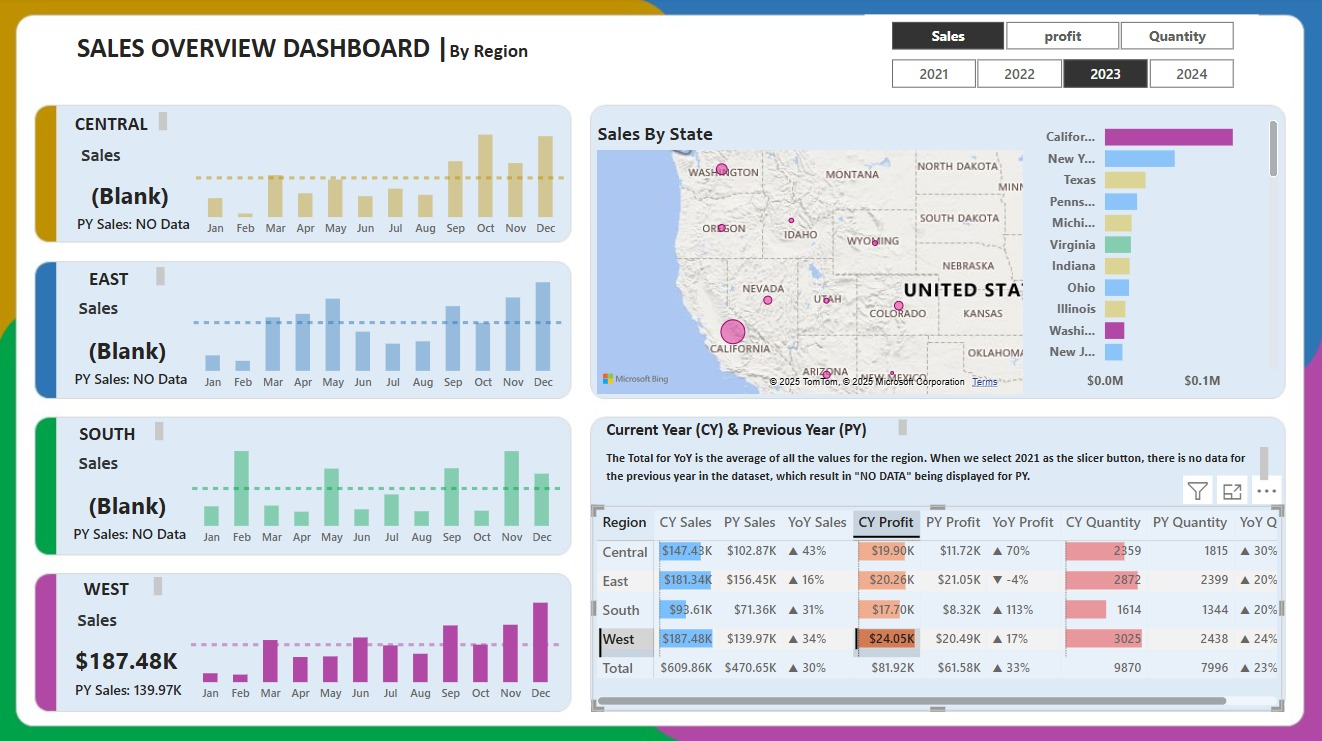

The page's visual inventory and layout, read from the dashboard file:
{"tool":"powerbi","page":{"name":"Page 1","canvas":[1280,720],"ordinal":0},"visuals":[{"type":"slicer","fields":{"Values":["Select Metric.Select Metric"]},"box":[838.4,16.5,380.1,37],"z":0},{"type":"card","fields":{"Values":["Sales Data.Total Sales"]},"box":[71.4,170.2,116.6,45.3],"z":1000},{"type":"textbox","box":[60.3,106.2,109.8,30.2],"z":2000},{"type":"slicer","fields":{"Values":["Calendar Table.Year"]},"box":[838.4,53.5,380.1,41.2],"z":3000},{"type":"card","fields":{"Values":["Sales Data.Dynamic Title"]},"box":[71.4,135.8,60.4,34.3],"z":4000},{"type":"card","fields":{"Values":["Sales Data.PY KPI Sales"]},"box":[67.2,203.1,130.4,37],"z":5000},{"type":"clusteredColumnChart","fields":{"Y":["Sales Data.Total Sales"],"Category":["Calendar Table.Month"]},"box":[188,105.7,366.4,134.5],"z":6000},{"type":"textbox","box":[37,27.4,517.3,50.8],"z":7000},{"type":"card","fields":{"Values":["Sales Data.Total Sales"]},"box":[69.3,319.6,116.6,45.3],"z":8000},{"type":"textbox","box":[58.2,255.6,109.8,30.2],"z":9000},{"type":"card","fields":{"Values":["Sales Data.Dynamic Title"]},"box":[69.3,285.3,60.4,34.3],"z":10000},{"type":"card","fields":{"Values":["Sales Data.PY KPI Sales"]},"box":[65.2,352.5,130.4,37],"z":11000},{"type":"clusteredColumnChart","fields":{"Y":["Sales Data.Total Sales"],"Category":["Calendar Table.Month"]},"box":[185.9,255.1,366.4,134.5],"z":12000},{"type":"card","fields":{"Values":["Sales Data.Total Sales"]},"box":[68.2,468.9,116.6,45.3],"z":13000},{"type":"textbox","box":[57.1,404.9,109.8,30.2],"z":14000},{"type":"card","fields":{"Values":["Sales Data.Dynamic Title"]},"box":[68.2,434.6,60.4,34.3],"z":15000},{"type":"card","fields":{"Values":["Sales Data.PY KPI Sales"]},"box":[64.1,501.8,130.4,37],"z":16000},{"type":"clusteredColumnChart","fields":{"Y":["Sales Data.Total Sales"],"Category":["Calendar Table.Month"]},"box":[184.8,404.4,366.4,134.5],"z":17000},{"type":"card","fields":{"Values":["Sales Data.Total Sales"]},"box":[67.1,619.3,116.6,45.3],"z":18000},{"type":"textbox","box":[56.1,555.3,109.8,30.2],"z":19000},{"type":"card","fields":{"Values":["Sales Data.Dynamic Title"]},"box":[67.1,585,60.4,34.3],"z":20000},{"type":"card","fields":{"Values":["Sales Data.PY KPI Sales"]},"box":[63,652.2,130.4,37],"z":21000},{"type":"clusteredColumnChart","fields":{"Y":["Sales Data.Total Sales"],"Category":["Calendar Table.Month"]},"box":[183.7,554.8,366.4,134.5],"z":22000},{"type":"map","title":"Sales By State","fields":{"Size":["Sales Data.Total Sales"],"Category":["Sales Data.State/Province"],"Series":["Sales Data.Region"]},"box":[575,120.8,421.3,267.6],"z":23000},{"type":"barChart","fields":{"Y":["Sales Data.Total Sales"],"Category":["Sales Data.State/Province"],"Series":["Sales Data.Region"]},"box":[996.2,105.7,245.6,282.7],"z":24000},{"type":"pivotTable","fields":{"Rows":["Sales Data.Region"],"Values":["Sales Data.CY Sales","Sales Data.PY Sales","Sales Data.YoY Sales","Sales Data.CY Profit","Sales Data.PY Profit","Sales Data.YoY Profit","Sales Data.CY Quantity","Sales Data.PY Quantity","Sales Data.YoY Quantity"]},"box":[575.5,491,666,197.9],"z":25000},{"type":"textbox","box":[583.9,403,300.4,31.4],"z":26000},{"type":"textbox","box":[583.9,429.5,649.1,43.4],"z":27000}]}

Visuals, with their boxes in screenshot pixels (x1, y1, x2, y2), scaled from the page's 1280x720 canvas onto the 1322x741 screenshot:
slicer - Select Metric.Select Metric: select_region(866, 17, 1258, 55)
card - Sales Data.Total Sales: select_region(74, 175, 194, 222)
textbox: select_region(62, 109, 176, 140)
slicer - Calendar Table.Year: select_region(866, 55, 1258, 97)
card - Sales Data.Dynamic Title: select_region(74, 140, 136, 175)
card - Sales Data.PY KPI Sales: select_region(69, 209, 204, 247)
clusteredColumnChart - Sales Data.Total Sales x Calendar Table.Month: select_region(194, 109, 573, 247)
textbox: select_region(38, 28, 572, 80)
card - Sales Data.Total Sales: select_region(72, 329, 192, 376)
textbox: select_region(60, 263, 174, 294)
card - Sales Data.Dynamic Title: select_region(72, 294, 134, 329)
card - Sales Data.PY KPI Sales: select_region(67, 363, 202, 401)
clusteredColumnChart - Sales Data.Total Sales x Calendar Table.Month: select_region(192, 263, 570, 401)
card - Sales Data.Total Sales: select_region(70, 483, 191, 529)
textbox: select_region(59, 417, 172, 448)
card - Sales Data.Dynamic Title: select_region(70, 447, 133, 483)
card - Sales Data.PY KPI Sales: select_region(66, 516, 201, 555)
clusteredColumnChart - Sales Data.Total Sales x Calendar Table.Month: select_region(191, 416, 569, 555)
card - Sales Data.Total Sales: select_region(69, 637, 190, 684)
textbox: select_region(58, 571, 171, 603)
card - Sales Data.Dynamic Title: select_region(69, 602, 132, 637)
card - Sales Data.PY KPI Sales: select_region(65, 671, 200, 709)
clusteredColumnChart - Sales Data.Total Sales x Calendar Table.Month: select_region(190, 571, 568, 709)
"Sales By State" map: select_region(594, 124, 1029, 400)
barChart - Sales Data.Total Sales x Sales Data.State/Province: select_region(1029, 109, 1283, 400)
pivotTable - Sales Data.Region x Sales Data.CY Sales: select_region(594, 505, 1282, 709)
textbox: select_region(603, 415, 913, 447)
textbox: select_region(603, 442, 1273, 487)
